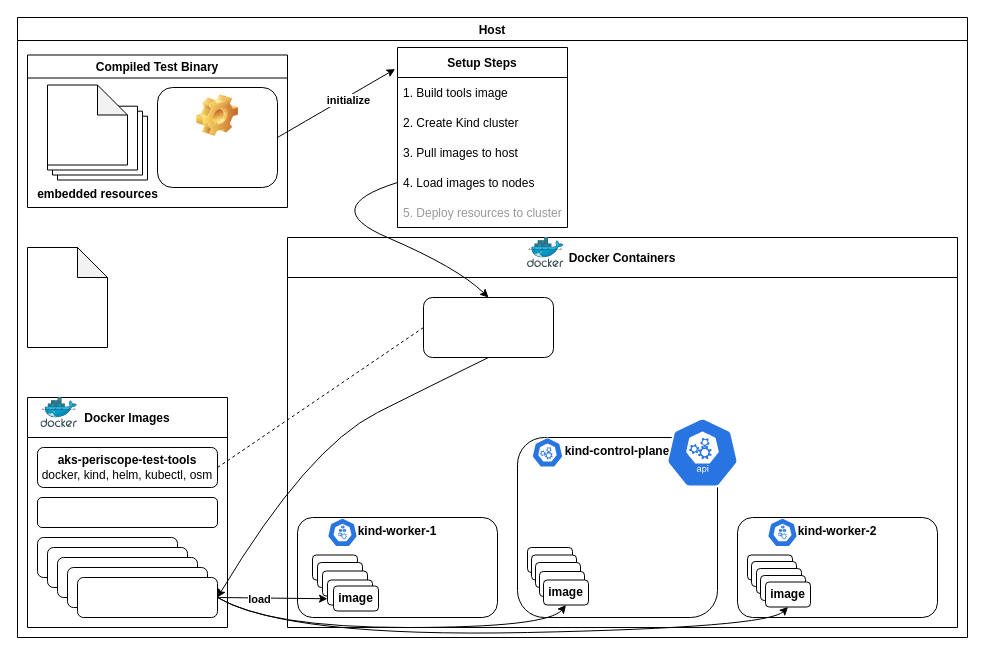
Some shapes in this 985 by 655 pixel diagram are drawn without their labels. Each missing label, with the centre of its shape:
Dockerfile: (87,124)
kind-node-image: (127,512)
kubeconfig: (67,297)
runtime images: (147,597)
TestMain: (217,137)
tool-runner kind load docker-image: (488,327)
